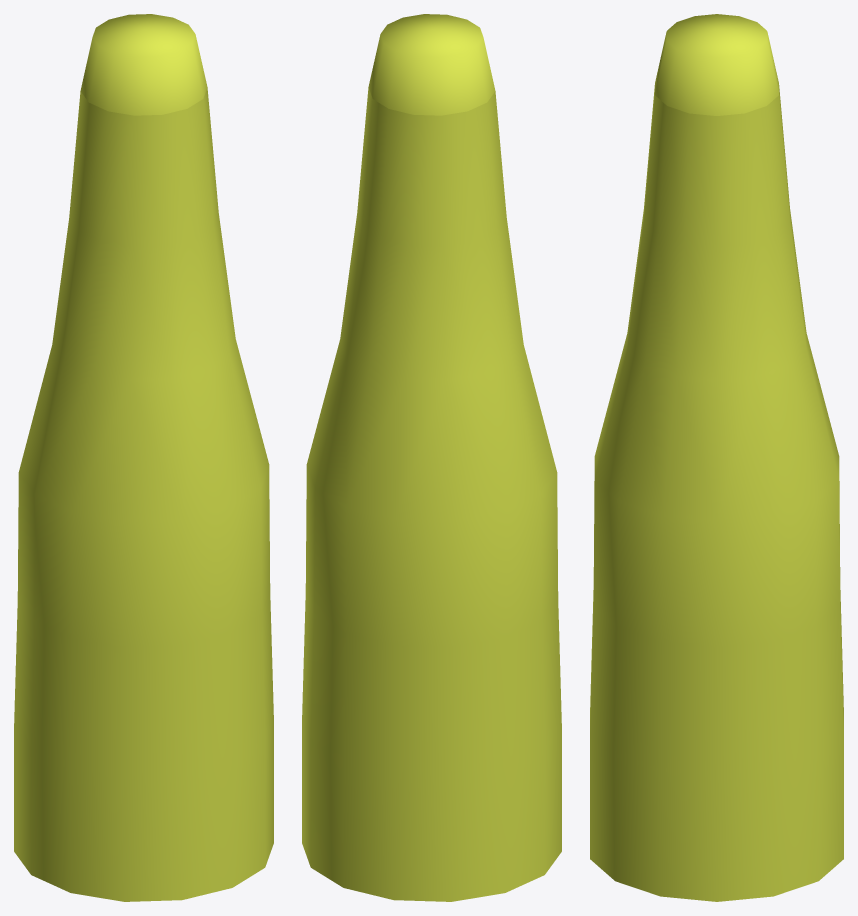
Rendered from bottle_1.fbx.
3 views of the same model, side by side, from view 1: azimuth 30°, elevation 25°; view 2: azimuth 150°, elevation 25°; view 3: azimuth 270°, elevation 25° (orthographic).
Parts seen in each view (by area): view 1: Cylinder001; view 2: Cylinder001; view 3: Cylinder001.
Boxes of the visible parts, x1=… form: Cylinder001: x1=14, y1=14, x2=273, y2=901; Cylinder001: x1=302, y1=14, x2=561, y2=901; Cylinder001: x1=590, y1=14, x2=843, y2=901.
Size of the model in its own units: 1.06 by 3.66 by 1.03.
